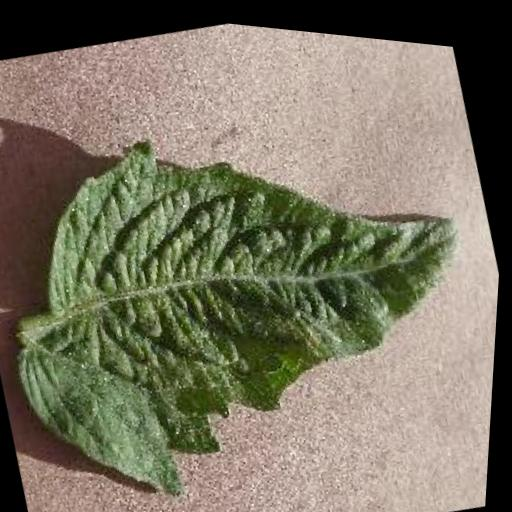Spider Mites: (0, 49, 510, 512)
